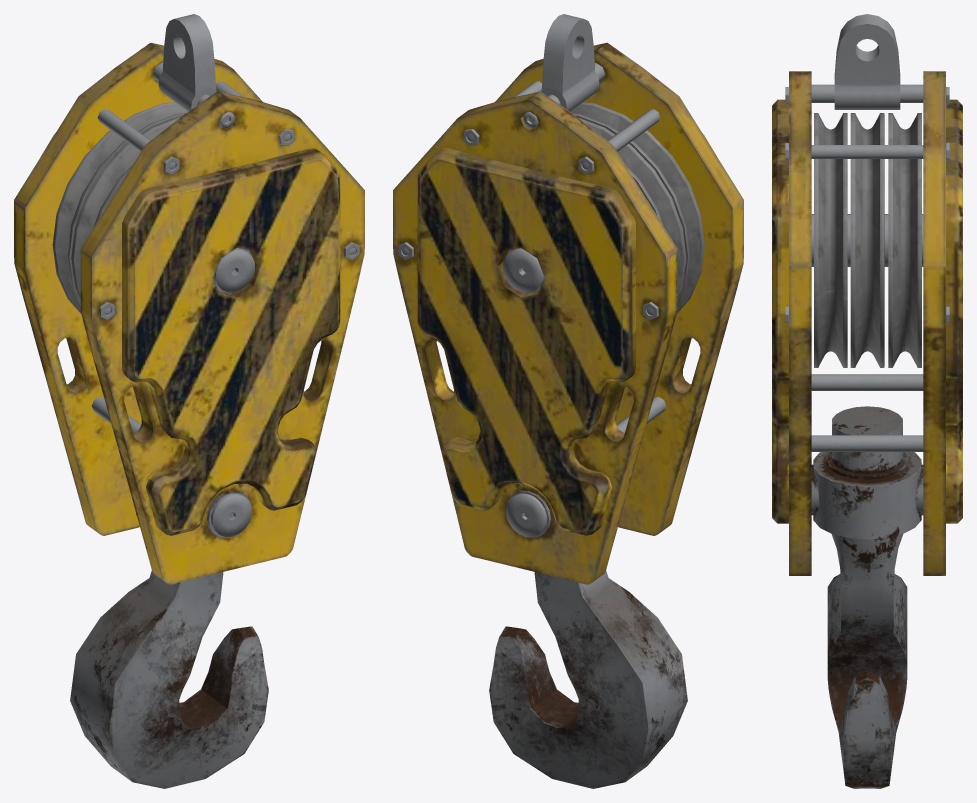
Rendered from crane-hook-block.glb.
The picture shows the model from 3 angles, left to right: view 1: azimuth 30°, elevation 25°; view 2: azimuth 150°, elevation 25°; view 3: azimuth 270°, elevation 25°; orthographic projection.
Visible parts, largest first — view 1: sides, hook, smallParts, lathe; view 2: sides, hook, smallParts, lathe; view 3: sides, hook, lathe, smallParts.
Boxes of the visible parts, <box> form: sides: <box>14,42,364,584</box>; hook: <box>70,490,268,788</box>; smallParts: <box>91,14,359,537</box>; lathe: <box>52,102,187,313</box>; sides: <box>393,42,743,584</box>; hook: <box>489,490,687,788</box>; smallParts: <box>398,14,666,537</box>; lathe: <box>570,102,704,313</box>; sides: <box>772,71,962,575</box>; hook: <box>811,406,923,788</box>; lathe: <box>814,113,921,367</box>; smallParts: <box>785,14,949,451</box>.
Size of the model in its own units: 0.7539 by 2 by 0.4521.
4 materials, 4 textured.
